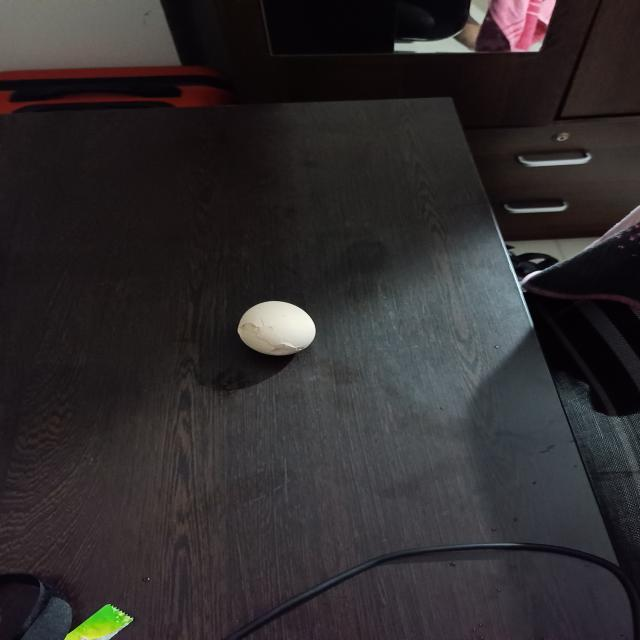biodegradable: (236, 301, 319, 357)
